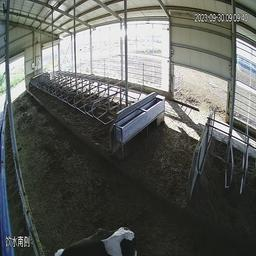cow: (43, 213, 141, 256)
